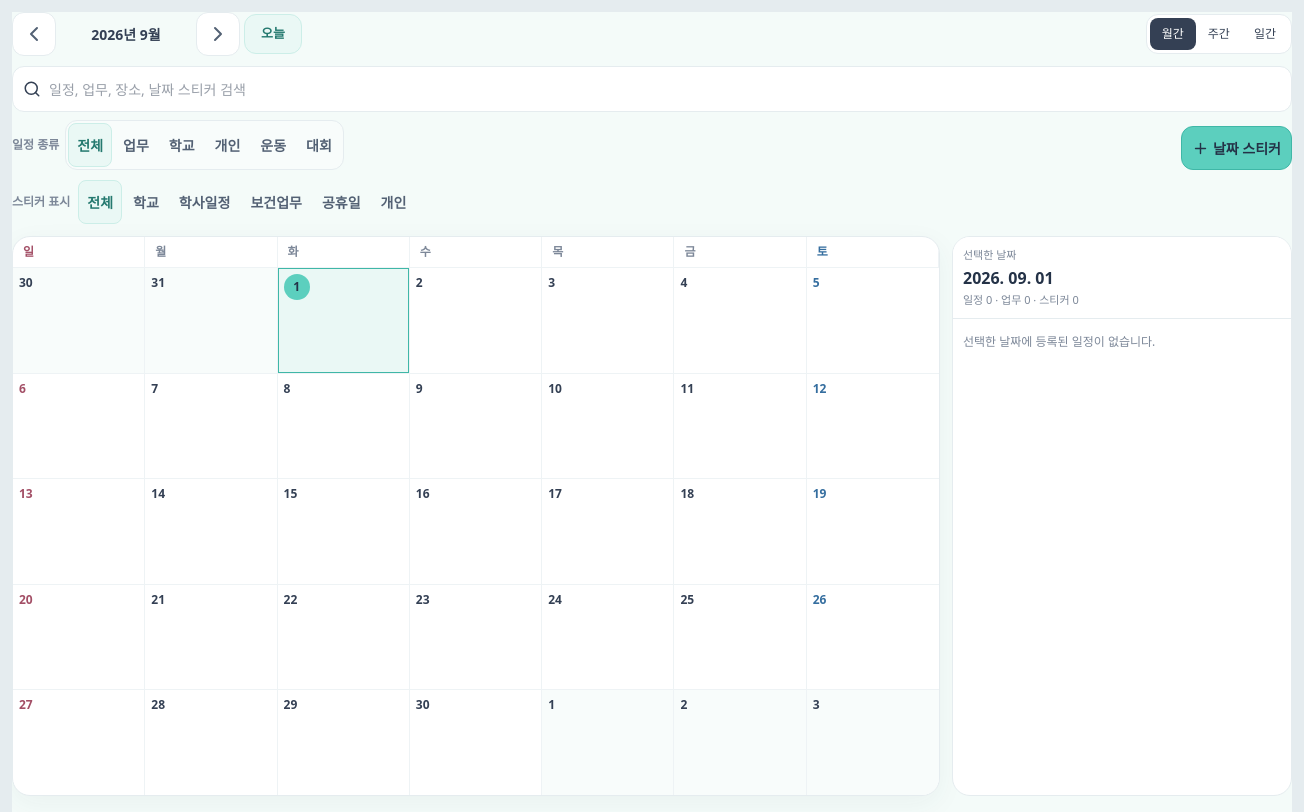
Scenario: CalendarWorkspace mobile date detail › keeps desktop month date selection in the existing detail column without a drawer
Click the button named "2026-09-08 선택".
click(343, 396)  # box [284,380,403,412]
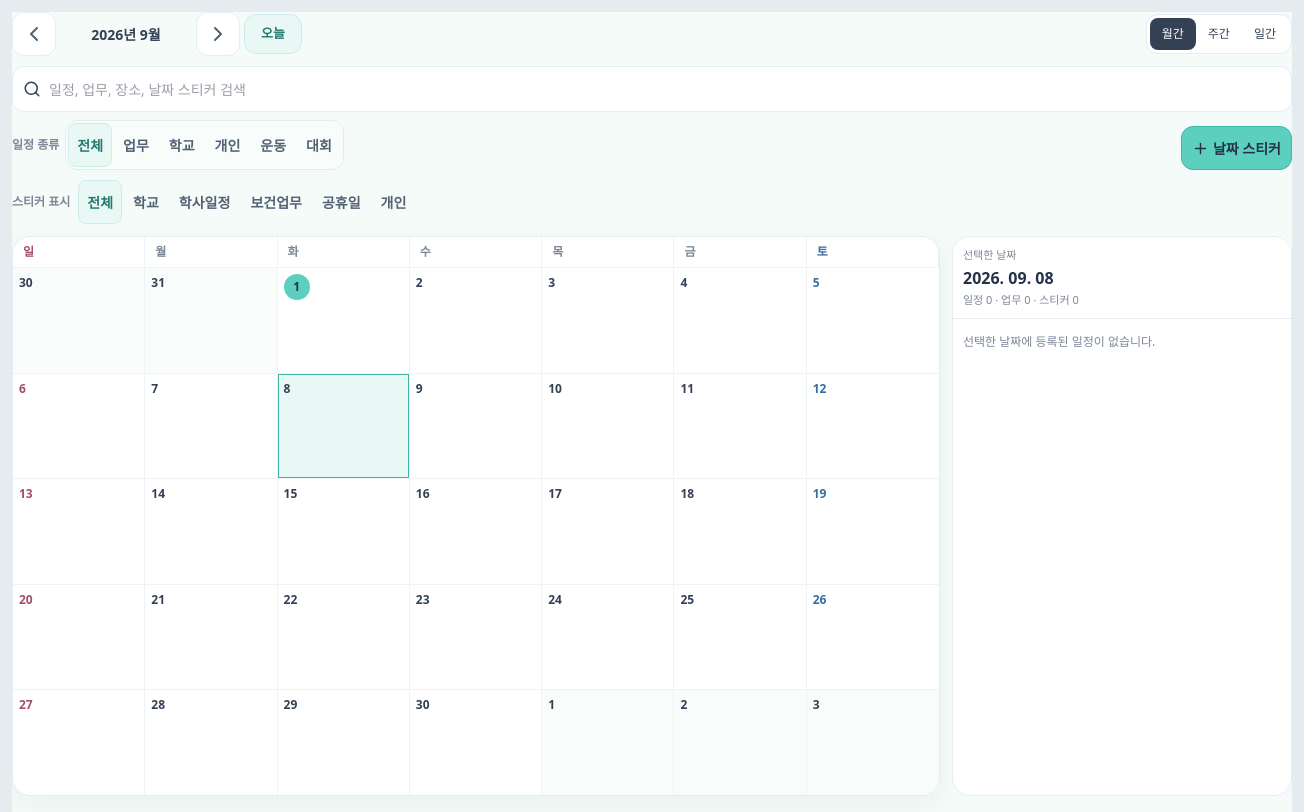
Expected: the element named "2026-09-08 선택 날짜 상세" is shown, [952,236,1292,796]
